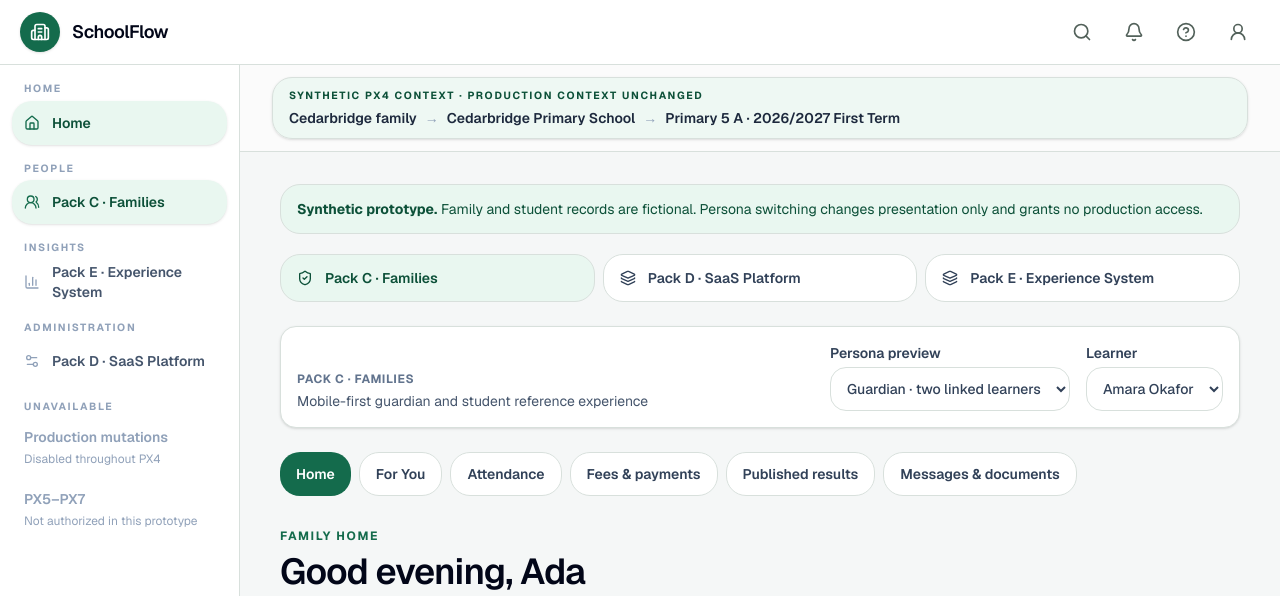
Test: PX4 Prototype Packs C–E › uses responsibility-safe student Finance notification wording
Expected: the text "School-fee information available" is not shown
Select "Student · self only" in the dropdown named "Family persona preview" at (950, 389), box [830,367,1070,411]
(page scrolled)
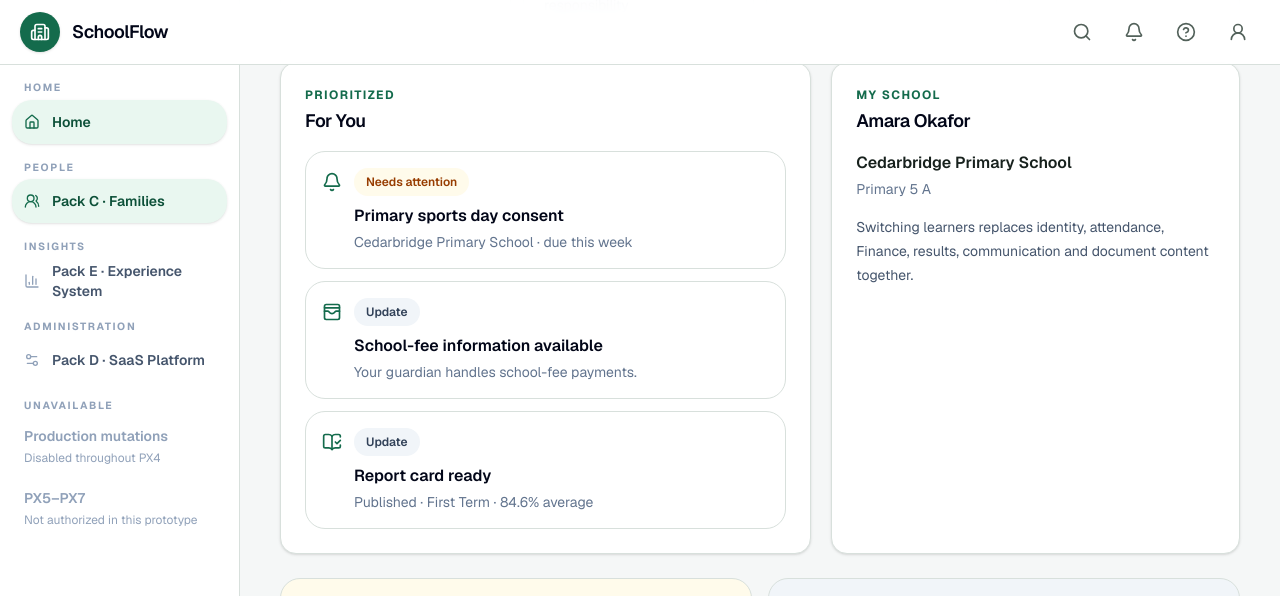
Now the heading "School-fee information available" is shown, box [354,334,637,358]
Now the text "Your guardian handles school-fee payments." is shown, box [354,362,637,382]
